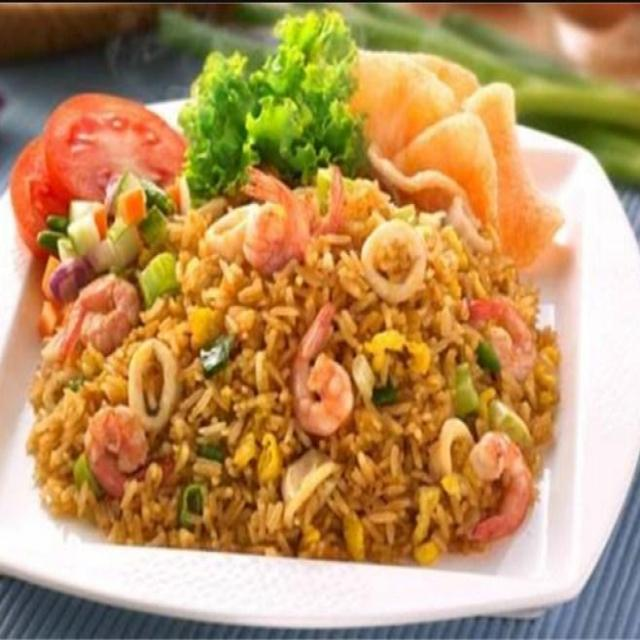Nasi Goreng: (43, 182, 561, 584)
